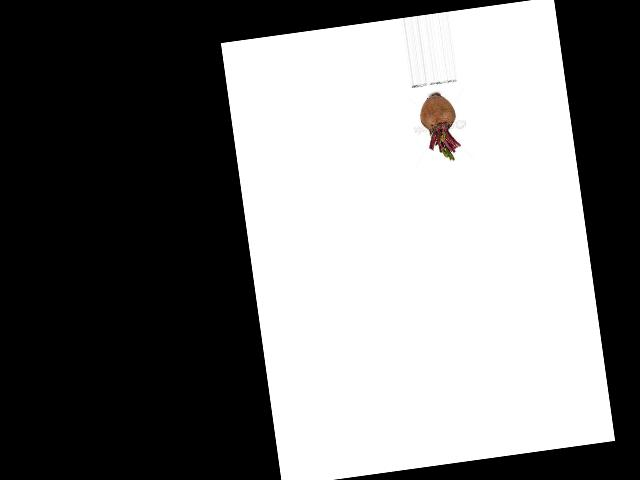beet: (416, 90, 462, 163)
